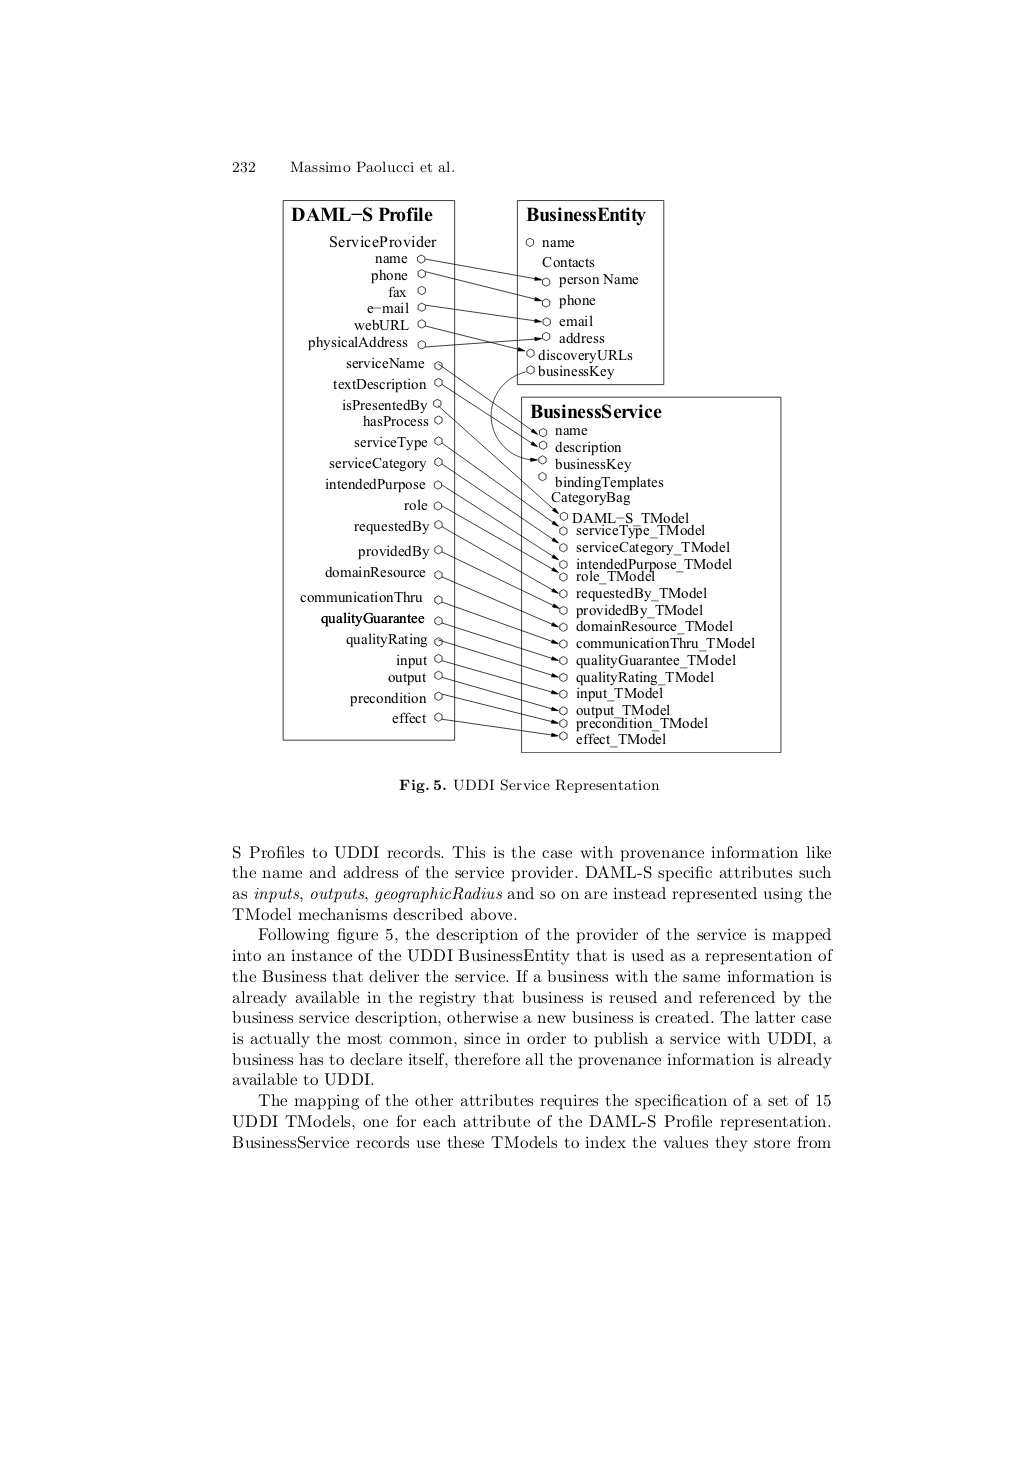figure: (282, 199, 781, 753)
